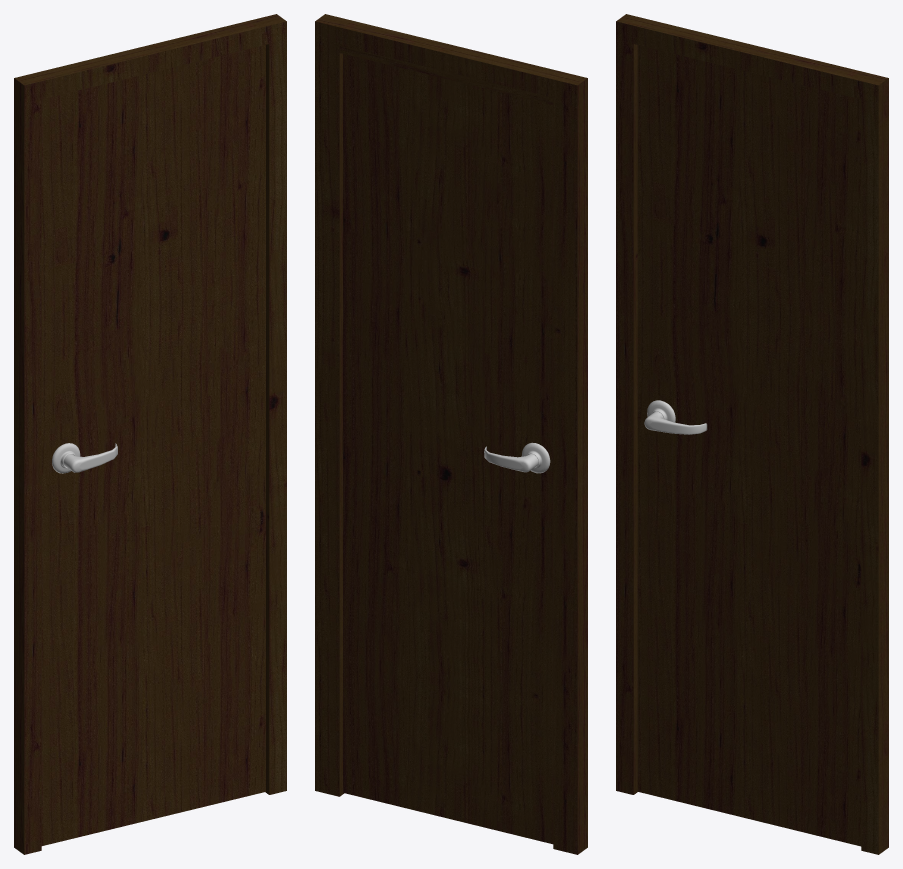
The model's file is door_small.glb.
The picture shows the model from 3 angles, left to right: view 1: azimuth 30°, elevation 25°; view 2: azimuth 150°, elevation 25°; view 3: azimuth 330°, elevation 25°; orthographic projection.
Visible parts, largest first — view 1: Handle_Back.017, DoorFrame.018; view 2: Handle_Back.017, DoorFrame.018; view 3: Handle_Back.017, DoorFrame.018.
Part boxes in pixels (left/top/right/bottom): Handle_Back.017: left=41, top=45, right=265, bottom=845; DoorFrame.018: left=14, top=14, right=286, bottom=854; Handle_Back.017: left=343, top=54, right=553, bottom=844; DoorFrame.018: left=315, top=14, right=587, bottom=854; Handle_Back.017: left=637, top=45, right=861, bottom=846; DoorFrame.018: left=616, top=14, right=888, bottom=854.
Size of what is drawn, in the model's own units: 0.75 by 2.1 by 0.1538.
Materials: 2 (1 with a texture image).
